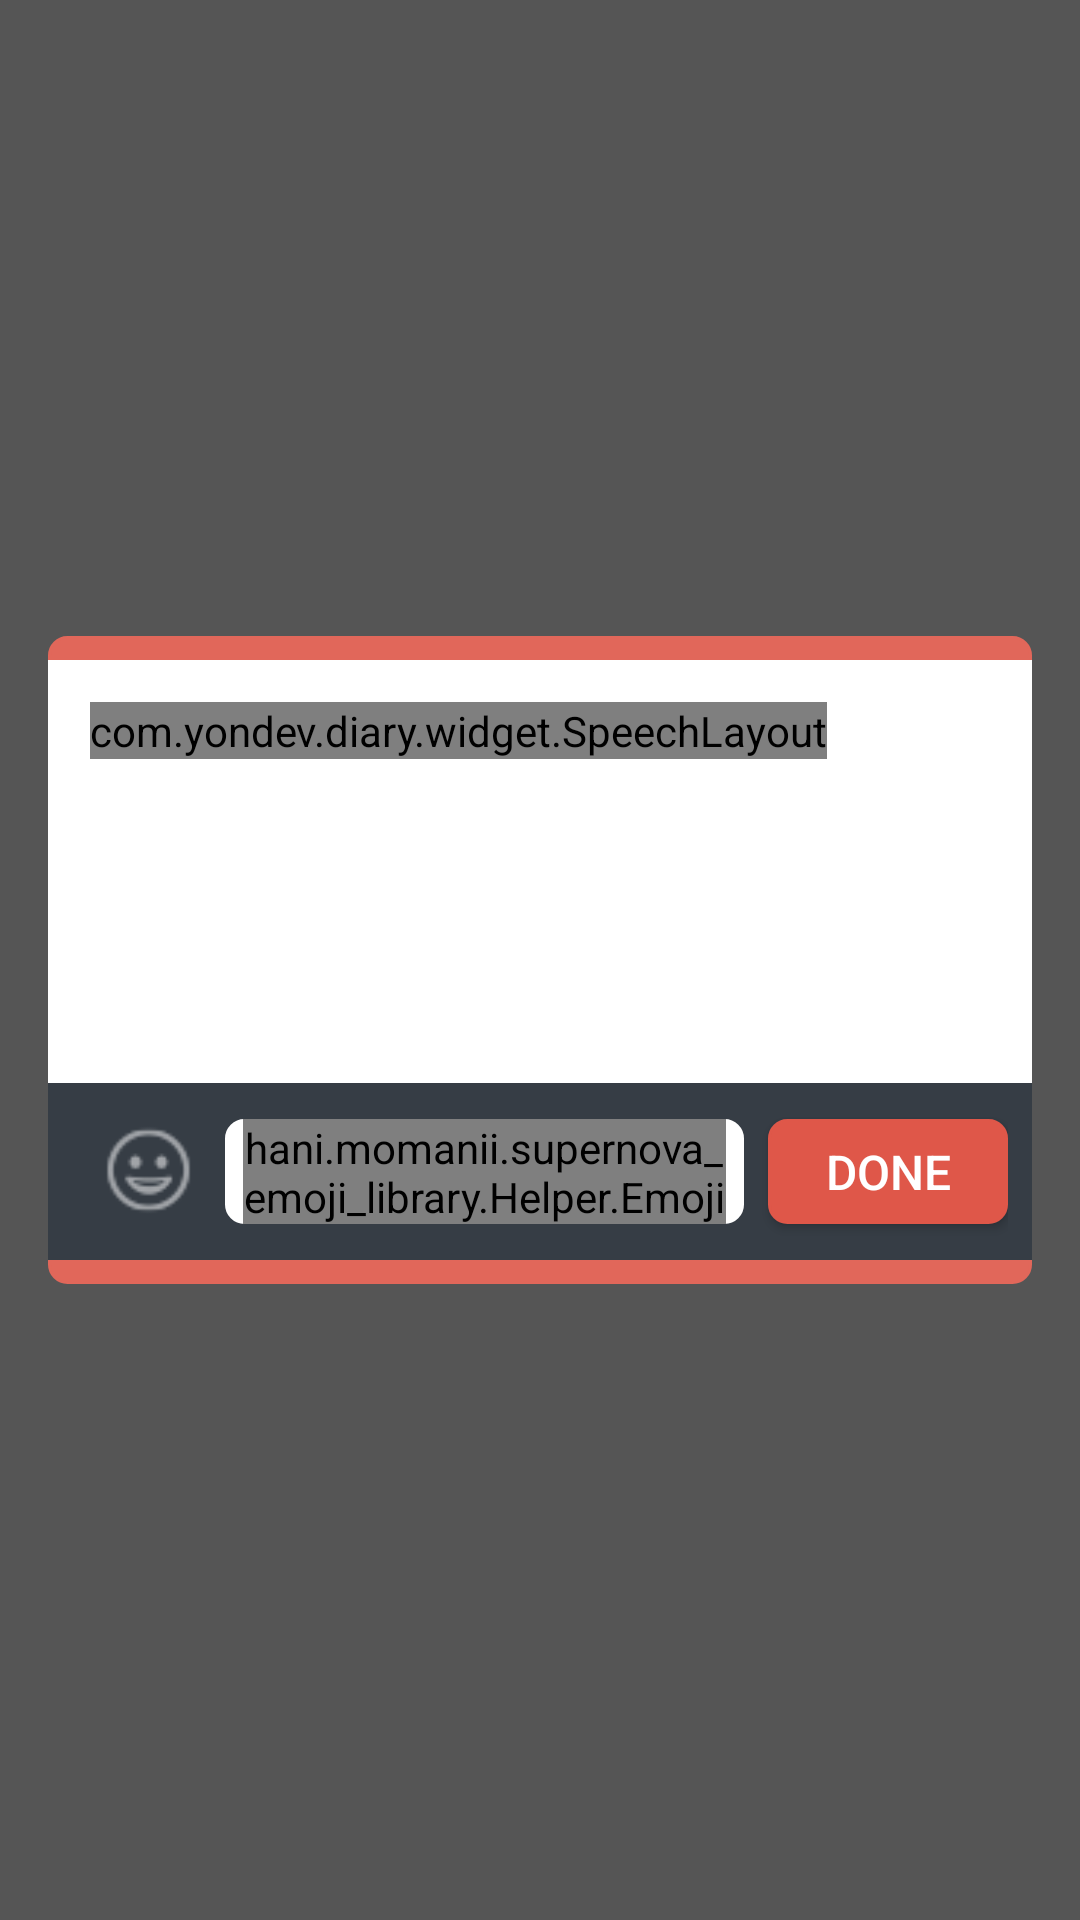

Where to tap for icons on this 1080w x 1920h app screen, as (x=x, y=y):
emoji people: (x=148, y=1170)
